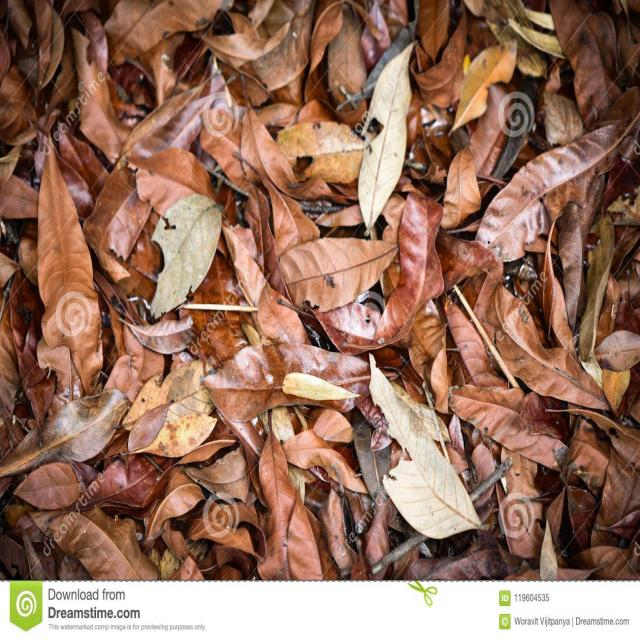organic waste: (283, 292, 636, 574), (265, 13, 476, 284), (4, 8, 214, 214), (120, 189, 250, 350)
